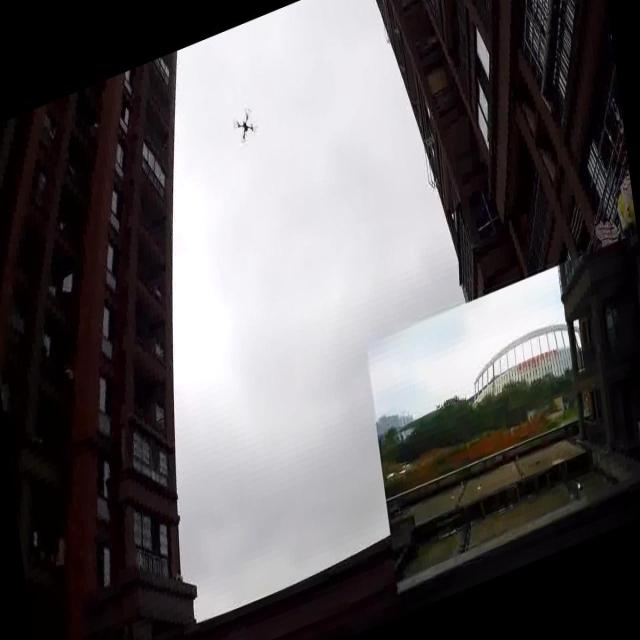drone: (230, 96, 261, 153)
